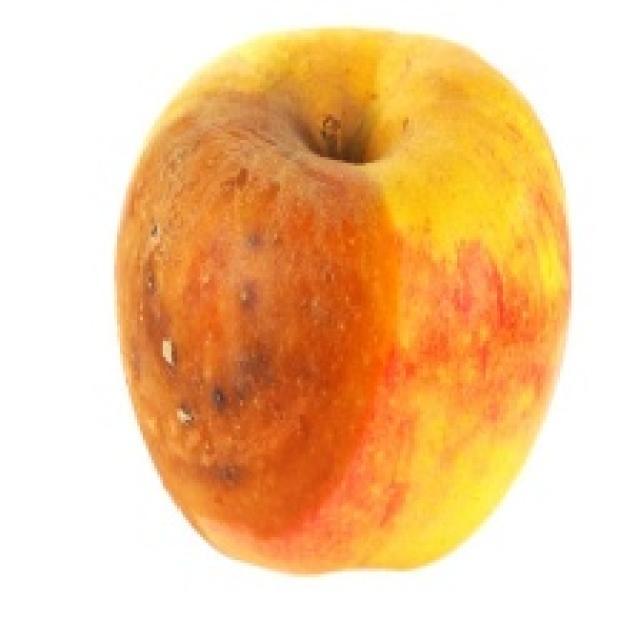rotten_apple: (121, 32, 566, 568)
